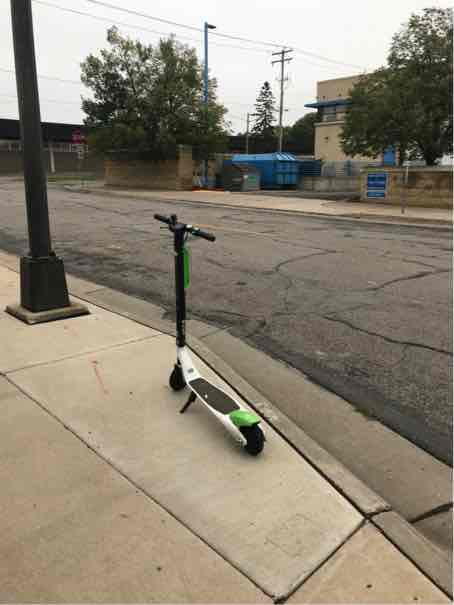scooter: (131, 201, 279, 459)
